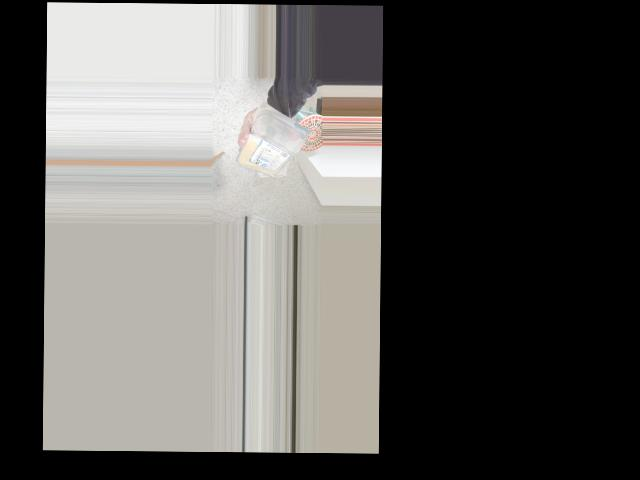cheese: (246, 107, 311, 182)
